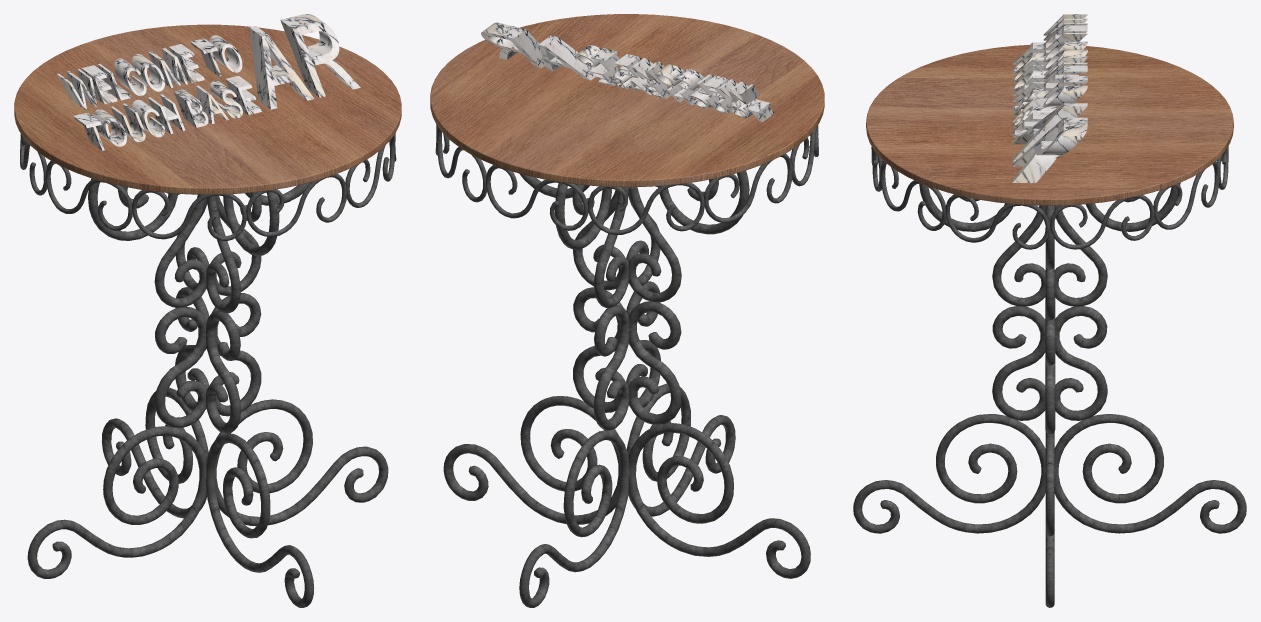
File: Table.fbx
The picture shows the model from 3 angles, left to right: view 1: azimuth 30°, elevation 25°; view 2: azimuth 150°, elevation 25°; view 3: azimuth 270°, elevation 25°; orthographic projection. The views are drawn at different scales.
Parts seen in each view (by area): view 1: cgaxis_models_51_24_01, cgaxis_models_51_24_01_2, Text; view 2: cgaxis_models_51_24_01_2, cgaxis_models_51_24_01, Text; view 3: cgaxis_models_51_24_01_2, cgaxis_models_51_24_01, Text.
Boxes of the visible parts, bbox=[...] form: cgaxis_models_51_24_01: bbox=[20, 133, 396, 607]; cgaxis_models_51_24_01_2: bbox=[14, 24, 401, 194]; Text: bbox=[57, 14, 360, 150]; cgaxis_models_51_24_01_2: bbox=[430, 14, 824, 187]; cgaxis_models_51_24_01: bbox=[435, 124, 818, 607]; Text: bbox=[481, 22, 774, 122]; cgaxis_models_51_24_01_2: bbox=[866, 45, 1233, 205]; cgaxis_models_51_24_01: bbox=[853, 146, 1246, 607]; Text: bbox=[1012, 14, 1087, 182].
Size of the model in its own units: 535 by 535 by 688.
3 materials, 3 textured.
